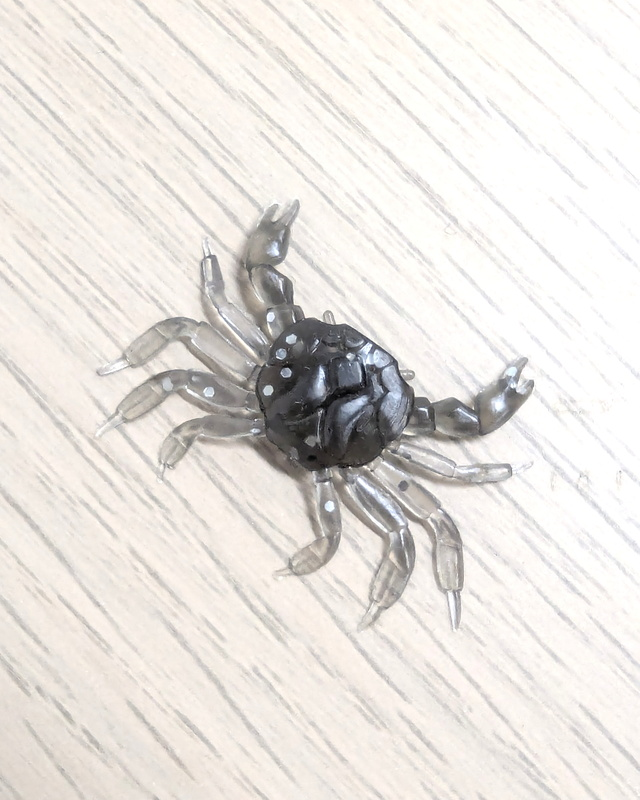crab1: (89, 200, 538, 628)
